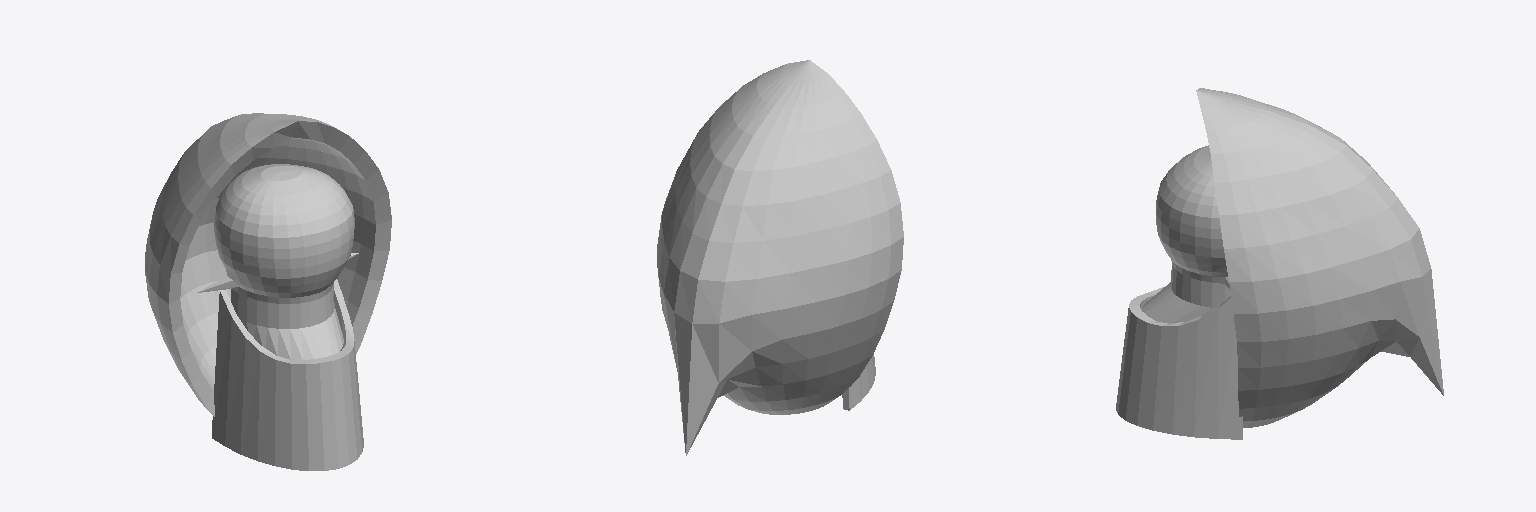
The model's file is PuroHueso_Cabeza.obj.
The picture shows the model from 3 angles: view 1: azimuth 30°, elevation 25°; view 2: azimuth 150°, elevation 25°; view 3: azimuth 270°, elevation 25°; orthographic projection.
Parts seen in each view (by area): view 1: Cabeza_PuroHueso; view 2: Cabeza_PuroHueso; view 3: Cabeza_PuroHueso.
Part boxes in pixels (x1,y1,x2,y2): Cabeza_PuroHueso: (145,113,391,470); Cabeza_PuroHueso: (657,60,903,455); Cabeza_PuroHueso: (1116,88,1443,439).
Bounding box in the file's own units: 0.3738 × 0.5344 × 0.4807.